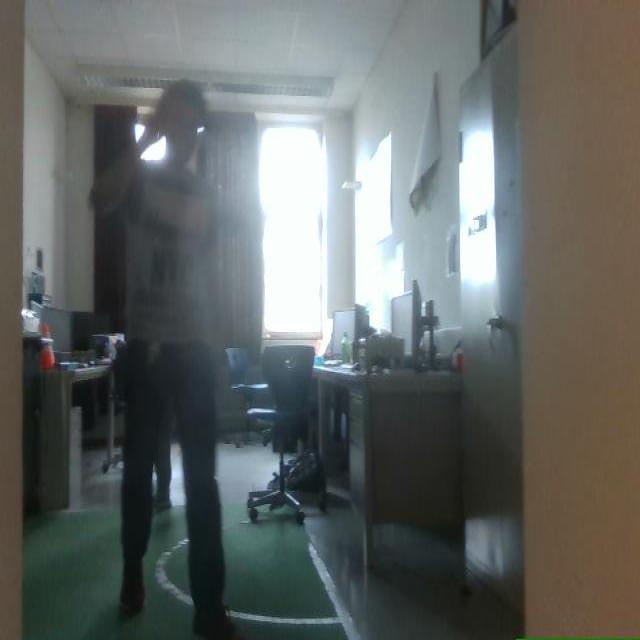humans: (91, 81, 244, 639)
objects: (247, 346, 325, 523), (225, 347, 268, 411), (284, 451, 325, 510)
